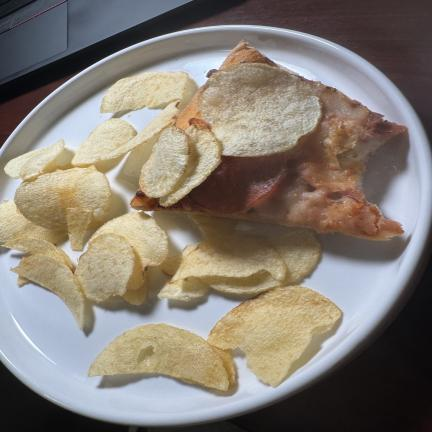chips: (208, 286, 341, 386), (197, 63, 321, 156), (88, 324, 233, 390), (15, 167, 111, 230), (12, 254, 84, 329), (172, 235, 286, 281), (160, 125, 221, 206), (75, 233, 142, 301), (89, 212, 168, 267), (101, 72, 188, 113), (140, 127, 189, 197), (118, 102, 178, 155), (266, 228, 320, 285), (72, 119, 136, 167), (0, 201, 65, 243), (5, 140, 65, 180), (3, 237, 73, 270), (201, 271, 283, 294), (158, 277, 209, 301), (189, 215, 237, 239), (66, 208, 91, 250), (122, 271, 147, 305), (160, 254, 182, 278), (17, 275, 29, 286)
pizza: (131, 78, 405, 240)
plate: (0, 26, 431, 425)
